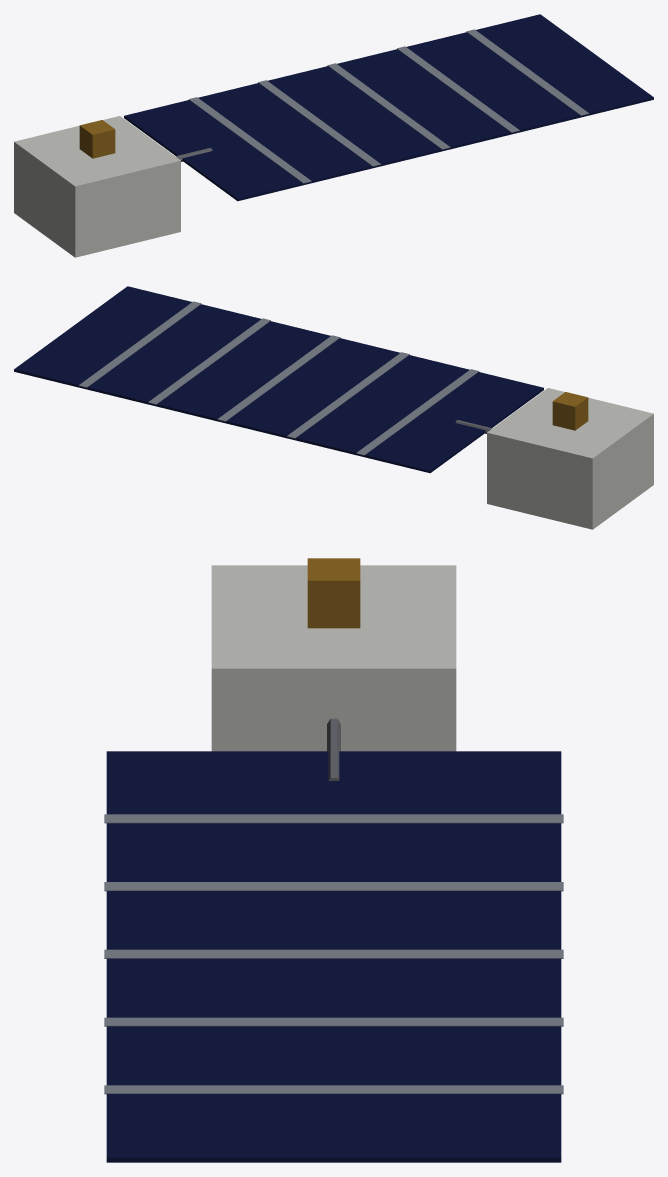
The model's file is kuiper.glb.
3 renders of one model, top to bottom at view 1: azimuth 30°, elevation 25°; view 2: azimuth 150°, elevation 25°; view 3: azimuth 270°, elevation 25°, orthographic. The views are drawn at different scales.
Parts seen in each view (by area): view 1: kuiper; view 2: kuiper; view 3: kuiper.
Boxes of the visible parts, x1,y1,x2,y2 form: kuiper: [14, 14, 653, 257]; kuiper: [14, 286, 653, 529]; kuiper: [104, 558, 563, 1162].
Size of the model in its own units: 7.3 by 1.24 by 2.63.
